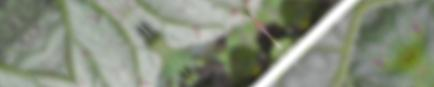Tomato Septoria leaf spot: (50, 0, 269, 87), (240, 70, 399, 87)
